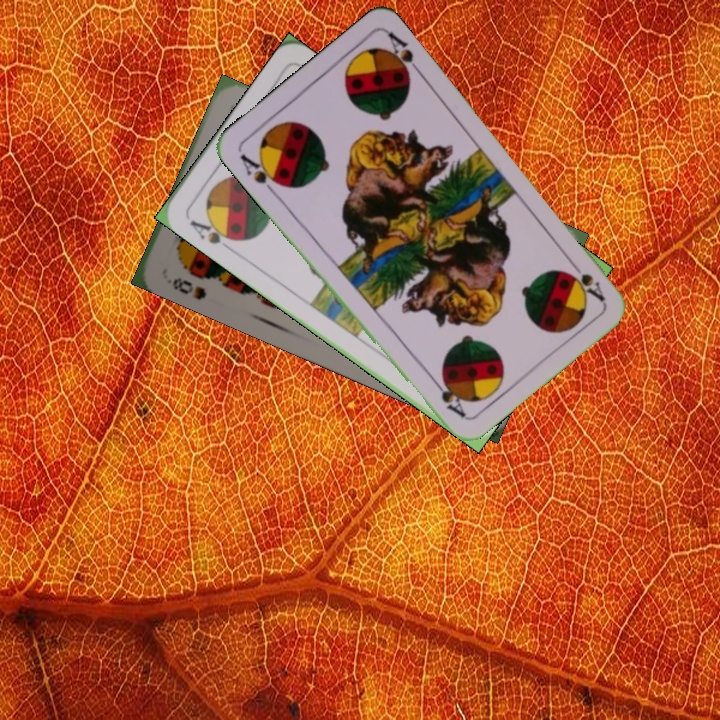S8: (168, 273, 209, 303)
SA: (235, 149, 286, 198), (564, 255, 608, 304), (186, 212, 241, 247)
